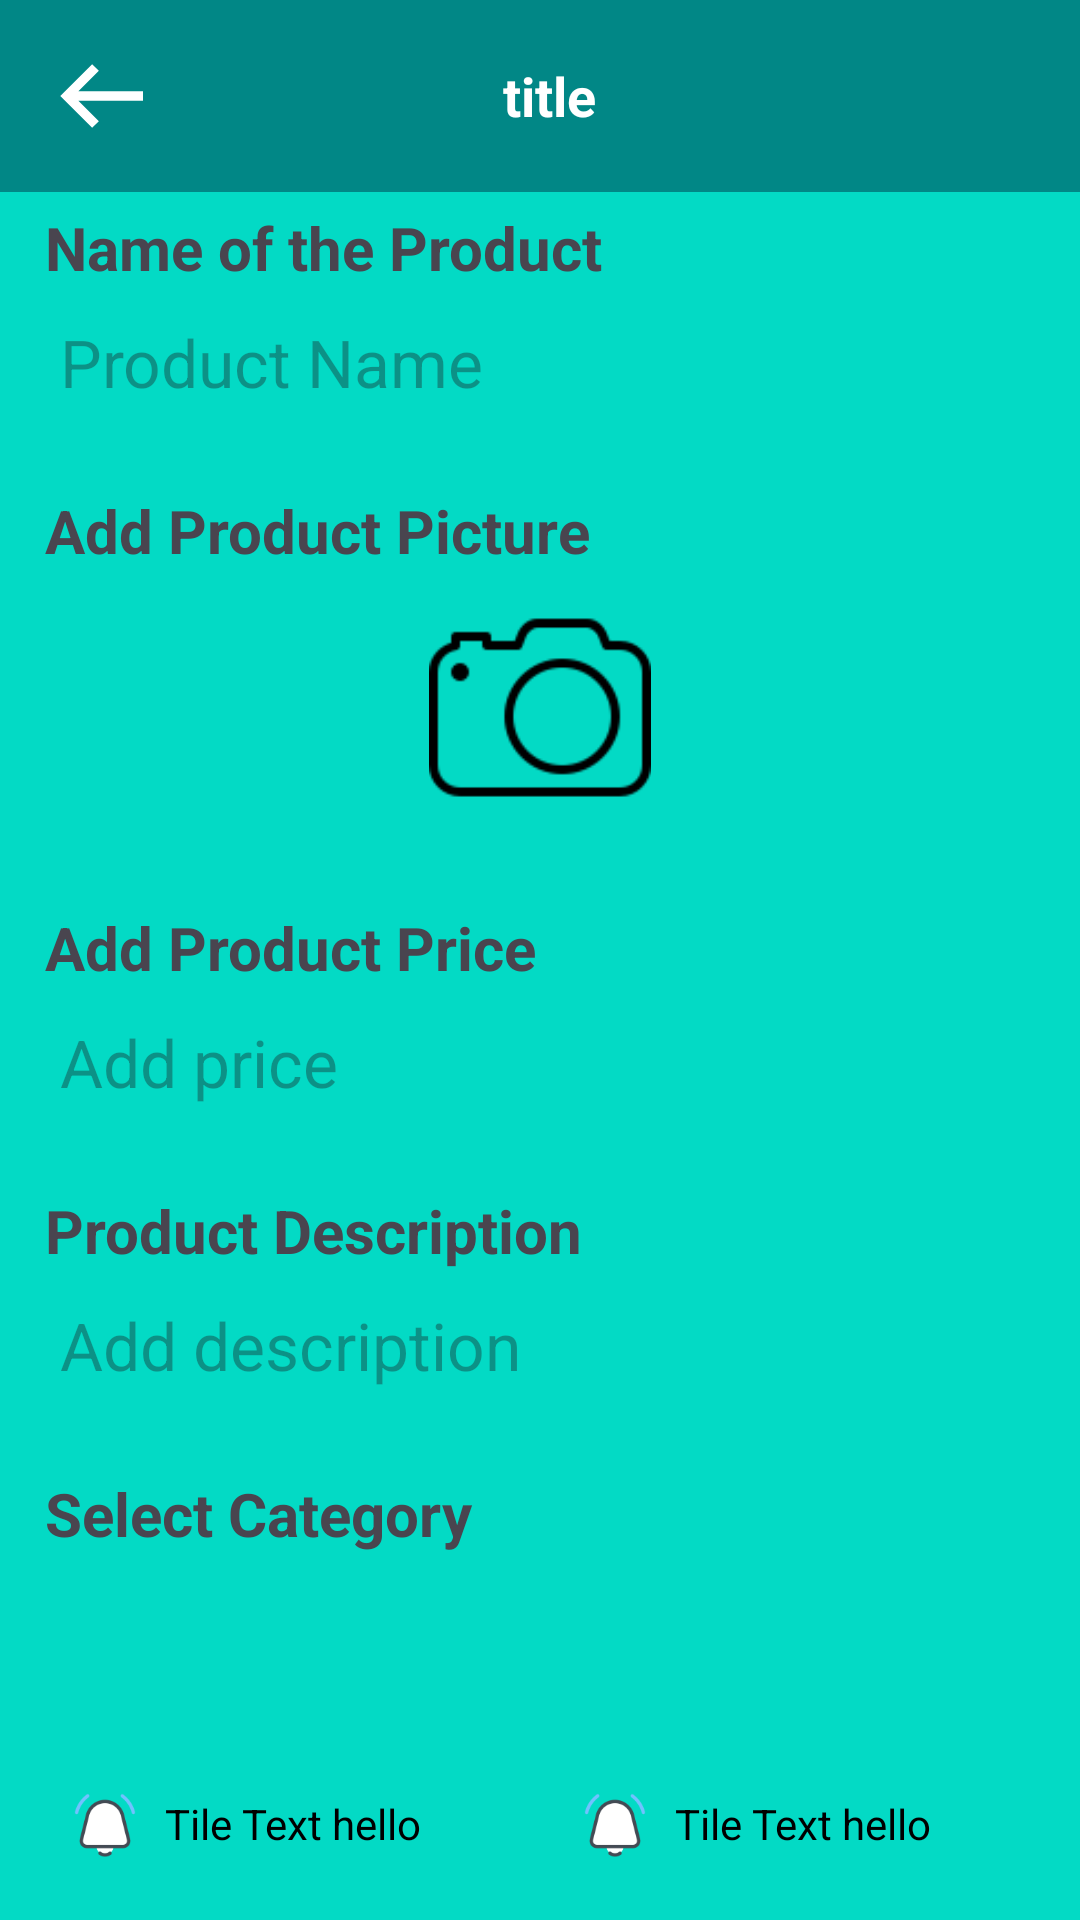

Screen size 1080px x 1920px. Icon name, then its center in pixels as (x=x, y=y):
back: (x=101, y=96)
camera: (x=540, y=707)
